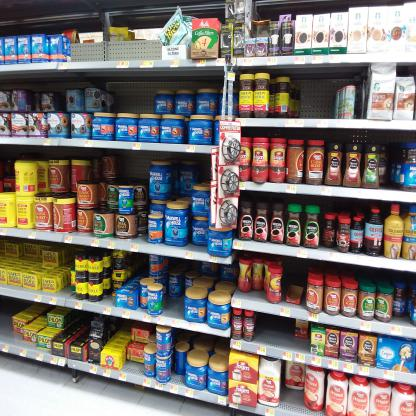Void: (305, 75, 334, 120), (258, 313, 294, 349), (114, 83, 153, 112), (122, 157, 150, 181), (2, 149, 12, 196), (383, 153, 397, 184), (288, 259, 304, 285), (71, 310, 87, 334), (132, 254, 148, 277), (286, 395, 304, 414), (2, 298, 10, 339), (168, 300, 182, 323), (57, 82, 67, 110), (63, 245, 74, 268), (126, 363, 143, 377)
